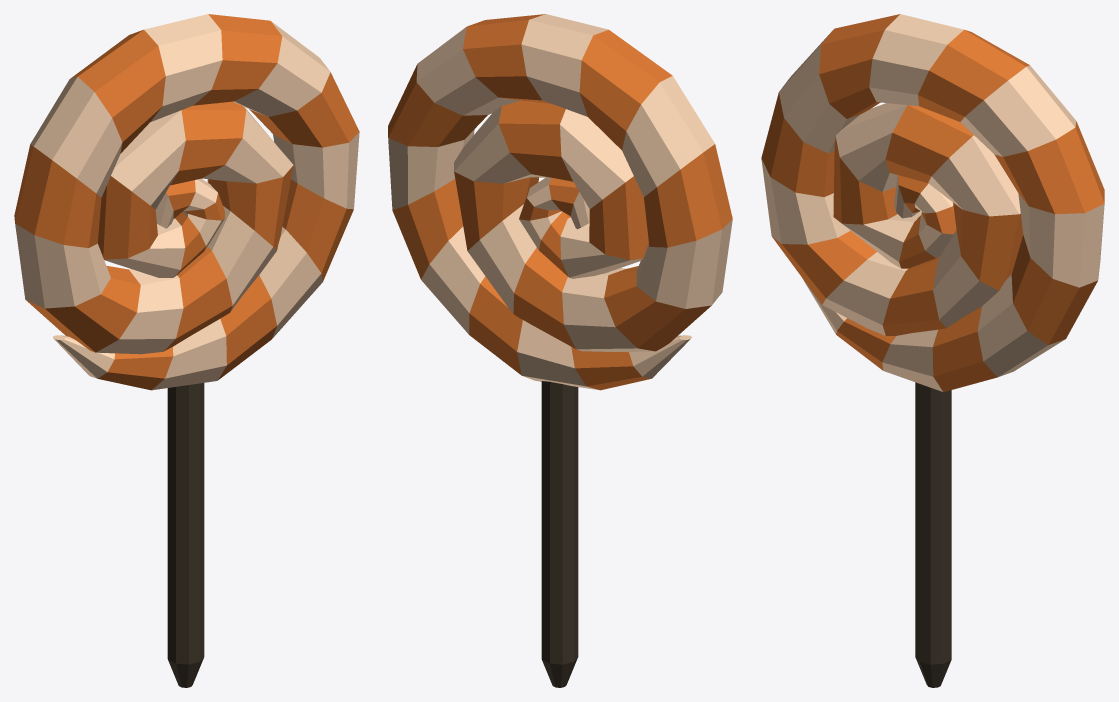
File: WF_LP_HT_Props_Candy.001.fbx
The picture shows the model from 3 angles, left to right: view 1: azimuth 30°, elevation 25°; view 2: azimuth 150°, elevation 25°; view 3: azimuth 330°, elevation 25°; orthographic projection.
Parts seen in each view (by area): view 1: WF_LP_HT_Props_Candy.001; view 2: WF_LP_HT_Props_Candy.001; view 3: WF_LP_HT_Props_Candy.001.
Part boxes in pixels (x1=…): WF_LP_HT_Props_Candy.001: x1=14, y1=14, x2=359, y2=687; WF_LP_HT_Props_Candy.001: x1=388, y1=14, x2=732, y2=687; WF_LP_HT_Props_Candy.001: x1=761, y1=14, x2=1104, y2=687.
Size of the model in its own units: 0.1223 by 0.2315 by 0.0275.
